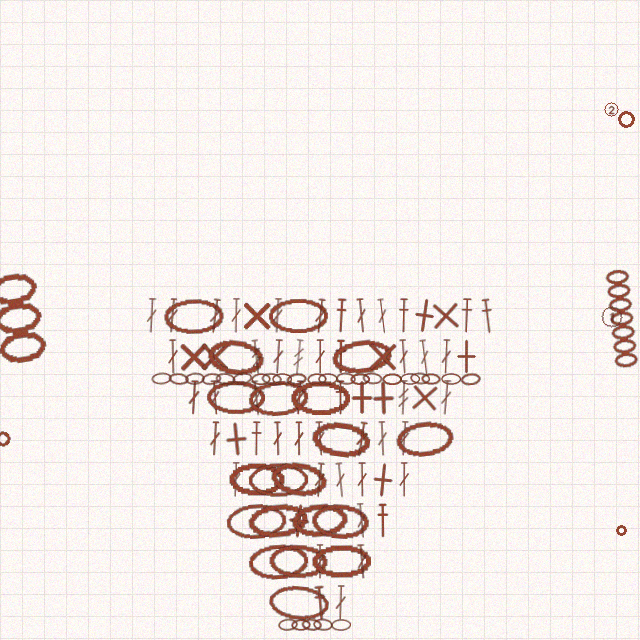chain: (268, 458, 330, 501), (309, 418, 372, 460), (330, 336, 393, 378), (205, 336, 267, 378), (394, 418, 456, 459), (267, 583, 330, 623), (246, 501, 309, 541), (247, 378, 309, 418), (247, 542, 309, 581), (225, 502, 288, 540), (290, 501, 350, 540), (310, 502, 371, 540), (268, 543, 329, 580), (163, 298, 225, 334), (248, 462, 308, 498), (268, 298, 329, 333), (311, 544, 371, 579), (290, 380, 350, 415), (206, 380, 265, 415), (228, 462, 286, 497), (232, 371, 253, 386), (168, 372, 189, 386), (201, 372, 222, 386), (215, 372, 236, 386), (261, 372, 282, 386), (286, 372, 307, 386), (460, 372, 481, 386), (301, 618, 322, 631), (151, 372, 172, 385), (362, 372, 383, 385), (278, 618, 298, 631), (313, 618, 333, 631), (185, 372, 205, 385), (336, 372, 356, 385), (410, 372, 430, 385), (291, 619, 311, 631), (331, 619, 351, 631), (251, 373, 271, 385), (272, 373, 292, 385), (307, 373, 327, 385), (318, 373, 338, 385), (350, 373, 370, 385), (382, 373, 402, 385), (400, 373, 420, 385), (421, 373, 441, 385), (441, 373, 461, 385)
double: (353, 421, 370, 457), (207, 298, 223, 334), (312, 462, 327, 498), (333, 462, 348, 498), (249, 380, 264, 416), (417, 339, 432, 375), (375, 298, 390, 334), (354, 503, 369, 538), (165, 298, 180, 333), (354, 298, 369, 333), (313, 298, 327, 334), (355, 544, 369, 579), (208, 421, 222, 456), (313, 421, 327, 456), (397, 421, 411, 456), (187, 380, 201, 415), (208, 380, 222, 415), (292, 380, 306, 415), (439, 380, 453, 415), (271, 339, 285, 374), (334, 585, 347, 620), (229, 462, 242, 497), (376, 421, 389, 456), (397, 339, 410, 374), (145, 298, 158, 333), (271, 298, 284, 333), (314, 544, 326, 579), (356, 462, 368, 497), (398, 462, 410, 497), (293, 421, 305, 456), (167, 339, 179, 374), (314, 339, 326, 374), (440, 339, 452, 374), (230, 298, 242, 333), (272, 421, 283, 456)
enseble_chain: (0, 269, 54, 371), (603, 268, 640, 371)
half_double: (479, 298, 496, 334), (312, 585, 328, 621), (459, 298, 474, 333), (334, 298, 348, 333), (376, 503, 389, 538), (250, 421, 263, 456), (334, 380, 347, 415), (334, 339, 347, 374), (397, 298, 410, 333)
noise: (599, 304, 625, 330), (615, 108, 637, 130), (602, 100, 621, 119), (0, 429, 12, 448), (614, 523, 628, 537)
single: (405, 296, 444, 335), (280, 502, 318, 540), (364, 461, 402, 499), (217, 420, 255, 458), (406, 379, 443, 416), (427, 297, 464, 334), (365, 380, 401, 416), (344, 380, 379, 415), (176, 339, 211, 374), (197, 339, 232, 374), (365, 339, 400, 374), (449, 339, 484, 374), (239, 298, 274, 333)
treble: (249, 339, 264, 375), (291, 339, 306, 375), (397, 380, 410, 415)
